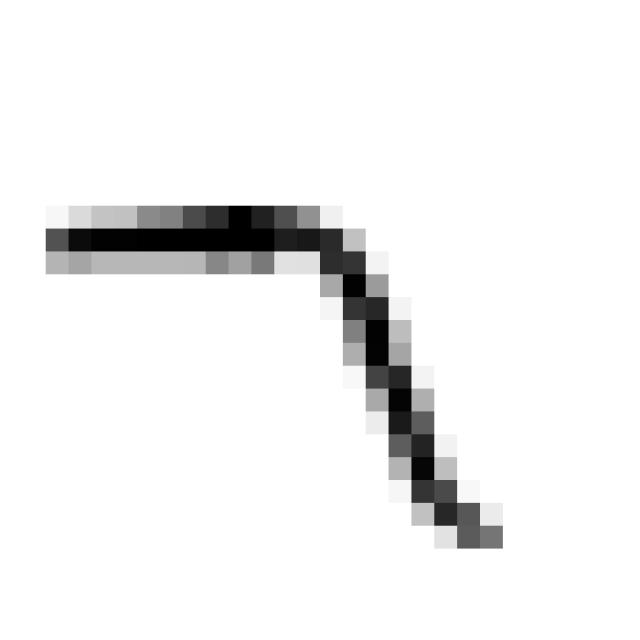6 -six-: (25, 187, 524, 574)
